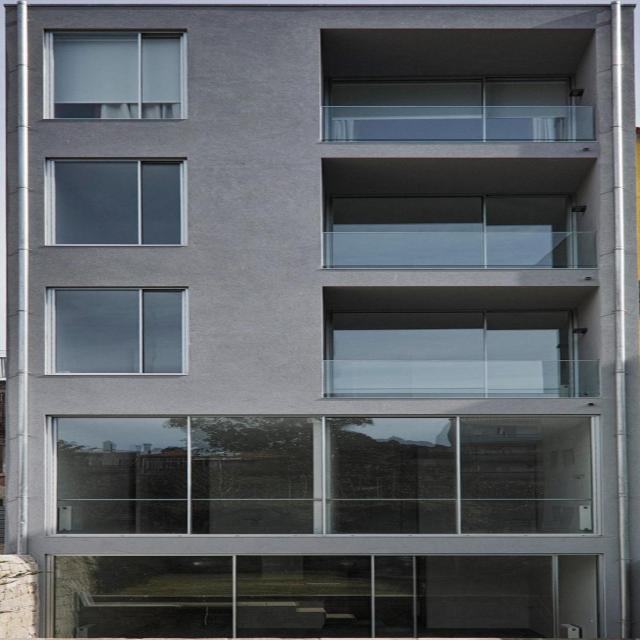Railing: (320, 357, 603, 397), (322, 103, 594, 142), (318, 232, 597, 269)
door: (414, 556, 594, 636)
wall: (4, 5, 640, 640)
windows: (56, 418, 595, 534), (40, 554, 589, 637), (47, 163, 189, 245), (328, 310, 581, 356), (47, 34, 183, 119), (50, 292, 192, 373), (329, 198, 569, 228), (330, 79, 568, 103)
